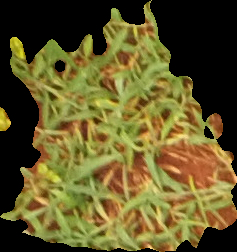grass: (3, 1, 236, 251)
